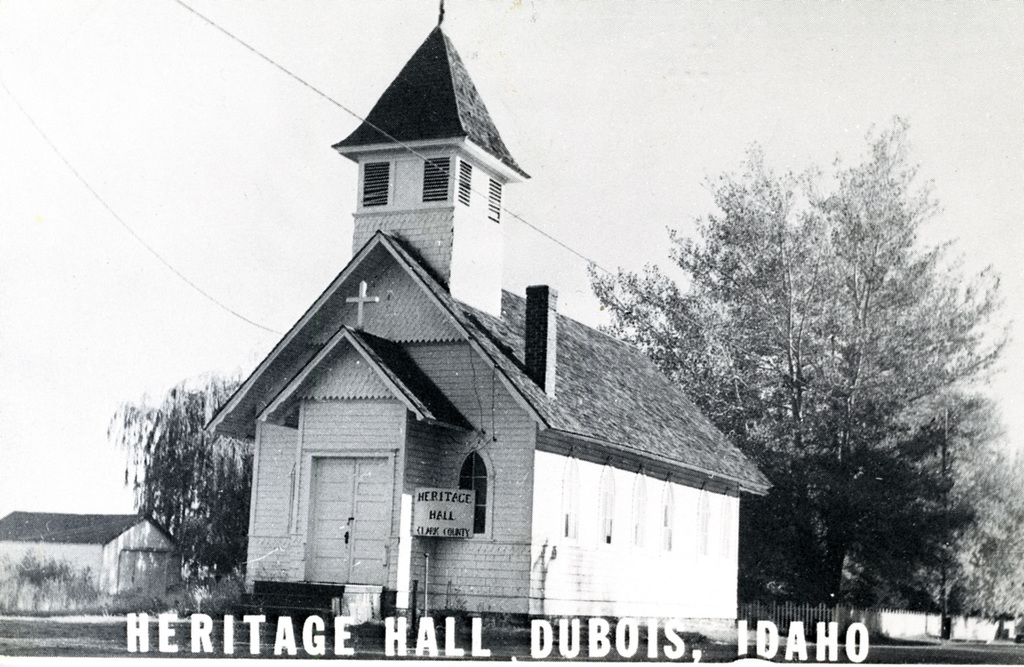Tree: (579, 107, 1023, 635), (97, 384, 250, 606)
